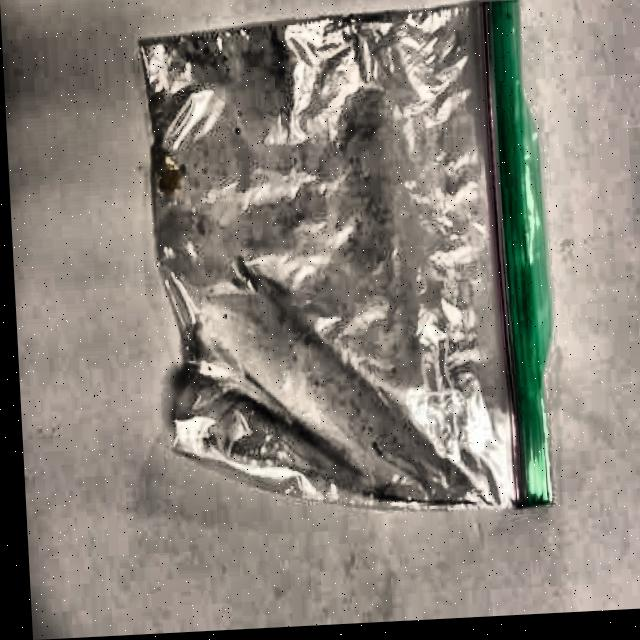plastic: (131, 0, 567, 539)
